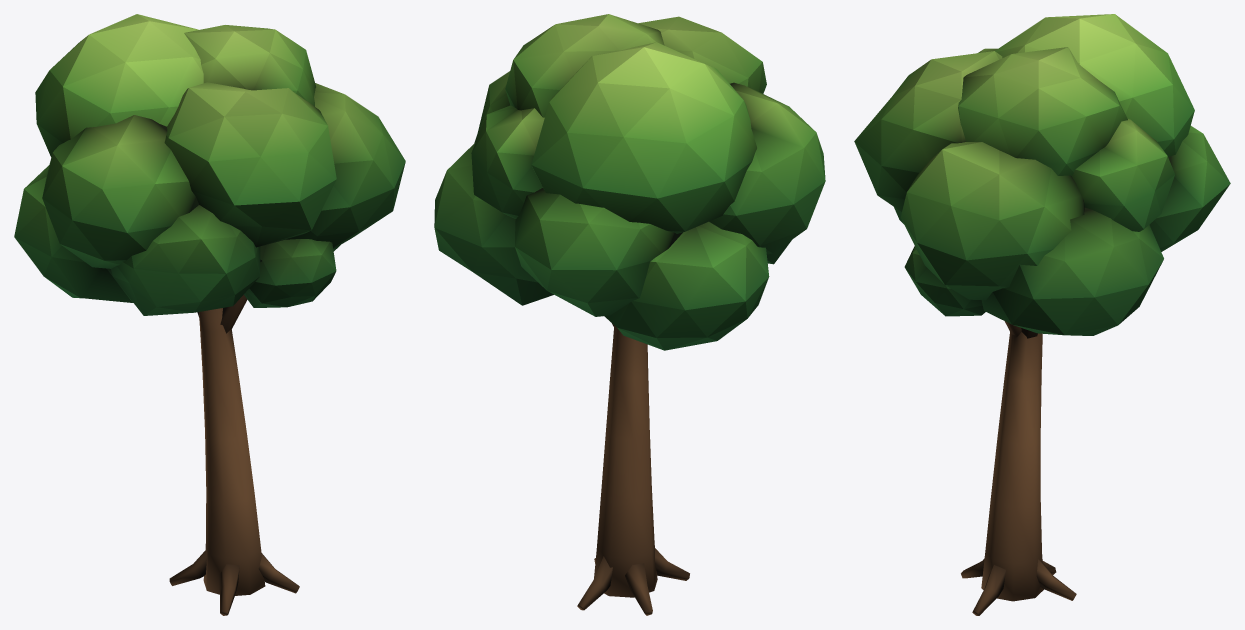
The model's file is tree-standing-b.glb.
3 renders of one model, left to right at view 1: azimuth 30°, elevation 25°; view 2: azimuth 150°, elevation 25°; view 3: azimuth 270°, elevation 25°, orthographic. The views are drawn at different scales.
Parts seen in each view (by area): view 1: 1_leaves.002, 0_trunk.002; view 2: 1_leaves.002, 0_trunk.002; view 3: 1_leaves.002, 0_trunk.002.
Part boxes in pixels (x1,y1,x2,y2): 1_leaves.002: (14, 14, 405, 315); 0_trunk.002: (169, 294, 299, 615); 1_leaves.002: (434, 14, 825, 350); 0_trunk.002: (577, 323, 689, 615); 1_leaves.002: (854, 14, 1230, 335); 0_trunk.002: (961, 321, 1076, 615).
Size of the model in its own units: 4.23 by 6.93 by 4.29.
